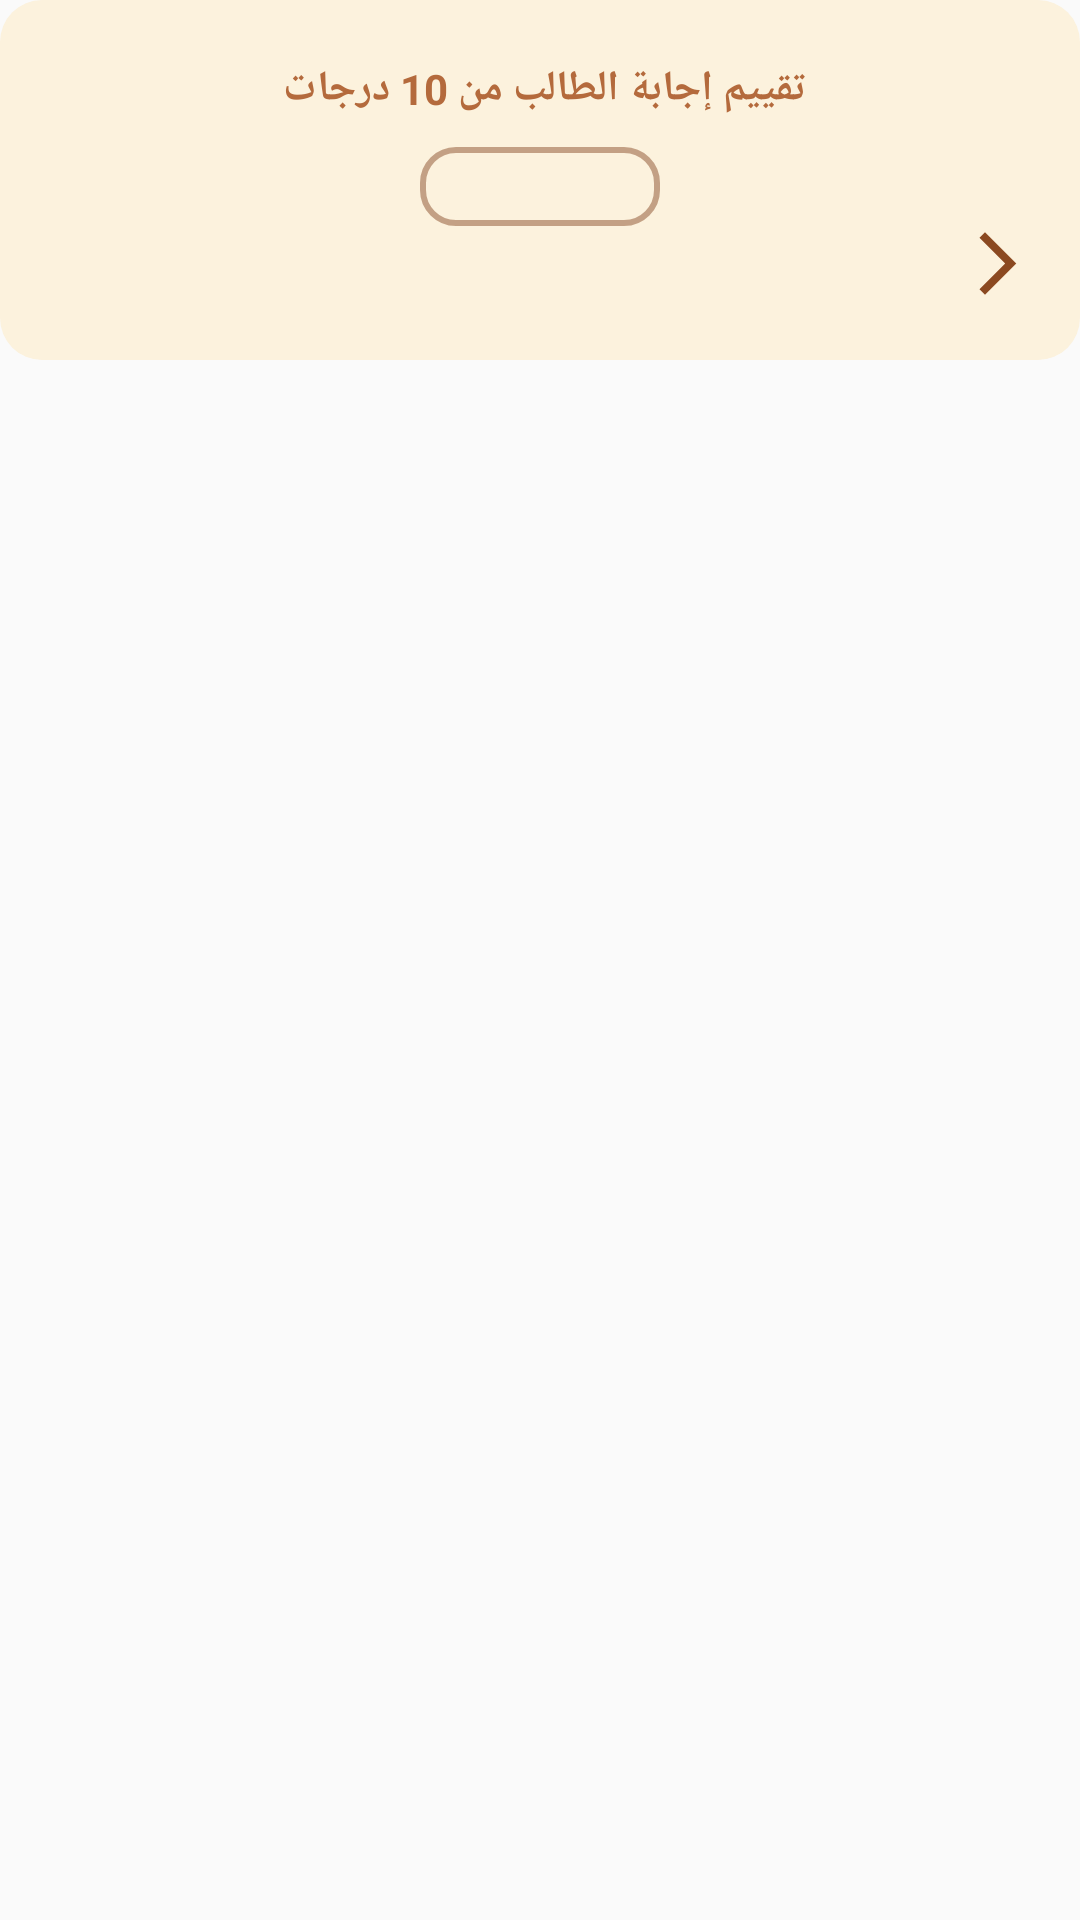

Screen size 1080px×1920px. Icon name, then its center in pixels as (x,y):
arrow forward: (997,263)
